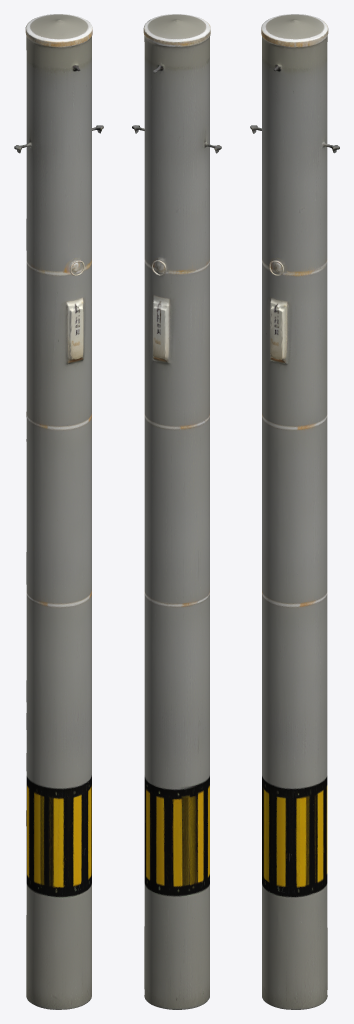
Rendered from denchu.glb.
The picture shows the model from 3 angles, left to right: view 1: azimuth 30°, elevation 25°; view 2: azimuth 150°, elevation 25°; view 3: azimuth 330°, elevation 25°; orthographic projection.
Bounding box in the file's own units: 0.1801 × 1.9 × 0.1542.
Materials: 1 (1 with a texture image).
